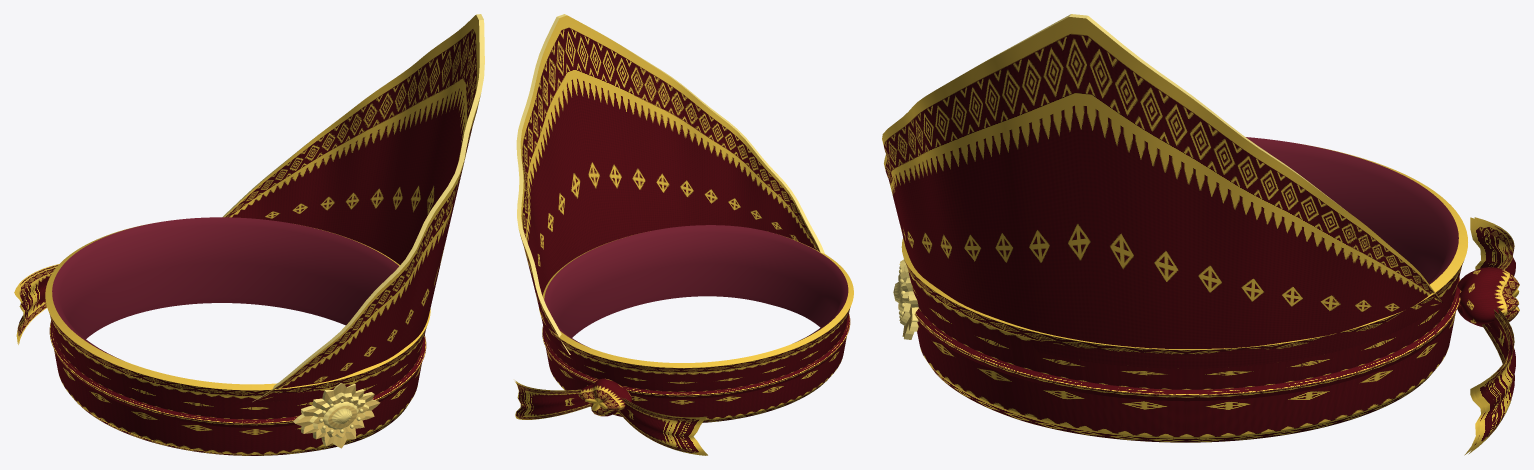
File: 04_Sulawesi_Bugis_Passapu.fbx
3 renders of one model, left to right at view 1: azimuth 30°, elevation 25°; view 2: azimuth 150°, elevation 25°; view 3: azimuth 270°, elevation 25°, orthographic. The views are drawn at different scales.
Parts seen in each view (by area): view 1: Passapu_Patonro; view 2: Passapu_Patonro; view 3: Passapu_Patonro.
Boxes of the visible parts, x1,y1,x2,y2 form: Passapu_Patonro: [14, 14, 484, 455]; Passapu_Patonro: [515, 14, 853, 455]; Passapu_Patonro: [882, 14, 1519, 455].
Size of the model in its own units: 1.82 by 1.72 by 1.99.
